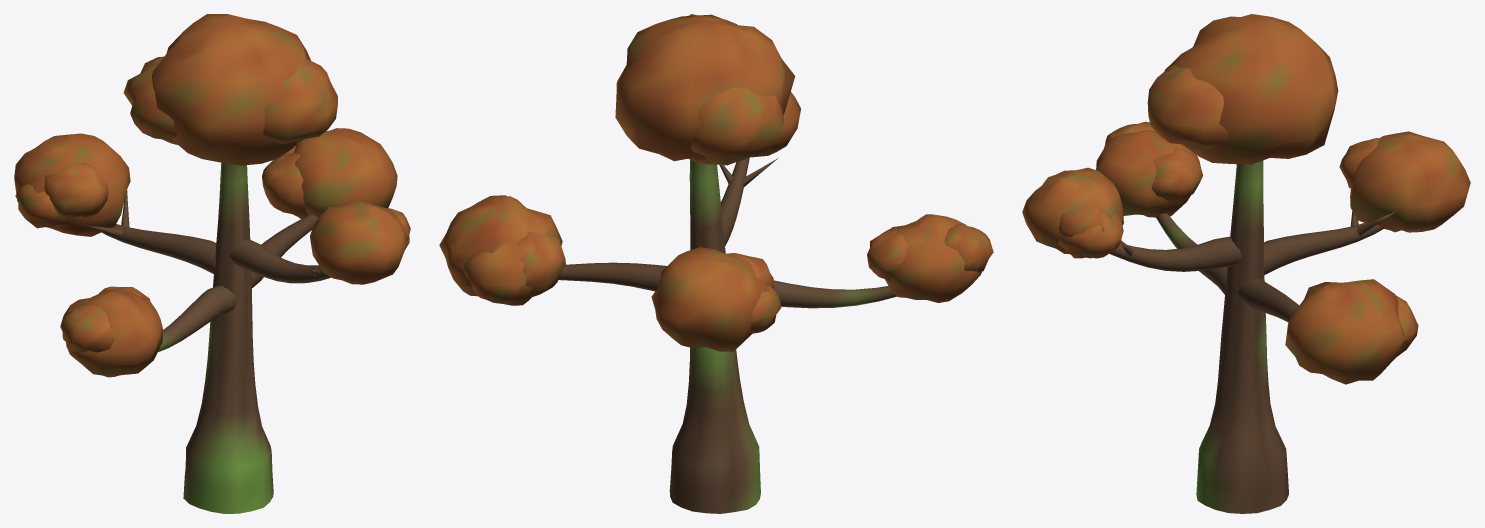
File: Night_MinoTree.fbx
The picture shows the model from 3 angles, left to right: view 1: azimuth 30°, elevation 25°; view 2: azimuth 150°, elevation 25°; view 3: azimuth 270°, elevation 25°; orthographic projection. The views are drawn at different scales.
Visible parts, largest first — view 1: Night_MinoTree; view 2: Night_MinoTree; view 3: Night_MinoTree.
Part boxes in pixels (x1,y1,x2,y2): Night_MinoTree: (14, 14, 410, 513); Night_MinoTree: (439, 14, 993, 513); Night_MinoTree: (1022, 14, 1470, 513).
Size of the model in its own units: 23.75 by 24.85 by 21.29.
